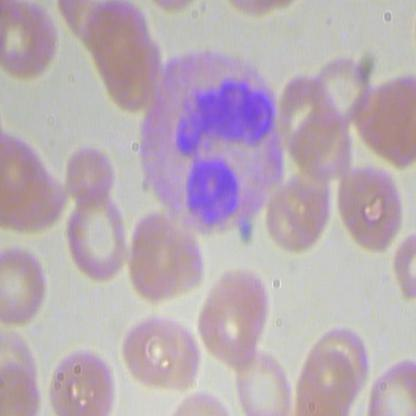RBC: (123, 210, 206, 303), (118, 308, 202, 397), (335, 153, 403, 254), (196, 272, 272, 361), (263, 166, 331, 255), (66, 192, 129, 283), (1, 1, 60, 89), (46, 346, 116, 415), (233, 348, 294, 415), (1, 239, 46, 328), (64, 141, 115, 205)
WBC: (134, 44, 284, 236)
